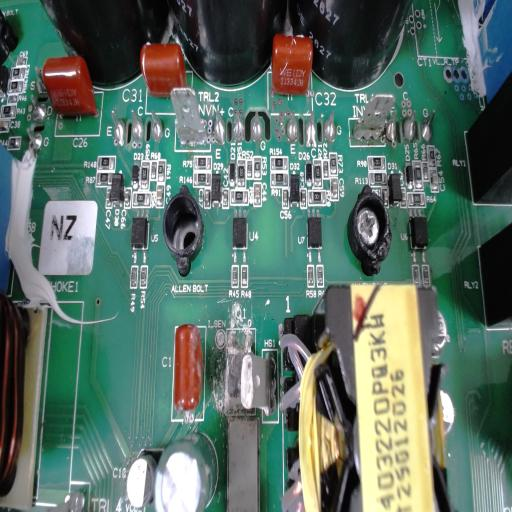pin_group: (104, 97, 167, 147), (210, 99, 268, 151), (284, 103, 340, 150), (386, 104, 440, 144)
solder_ball: (108, 104, 128, 144), (150, 101, 165, 144), (420, 105, 438, 139), (212, 106, 226, 148), (129, 104, 143, 142), (250, 109, 264, 147), (303, 112, 317, 147), (403, 107, 417, 142), (232, 109, 246, 142), (286, 110, 299, 142), (387, 108, 399, 142), (323, 112, 337, 140)
